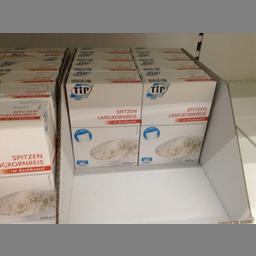rice: (140, 68, 218, 166), (65, 72, 142, 167), (0, 100, 57, 220)
